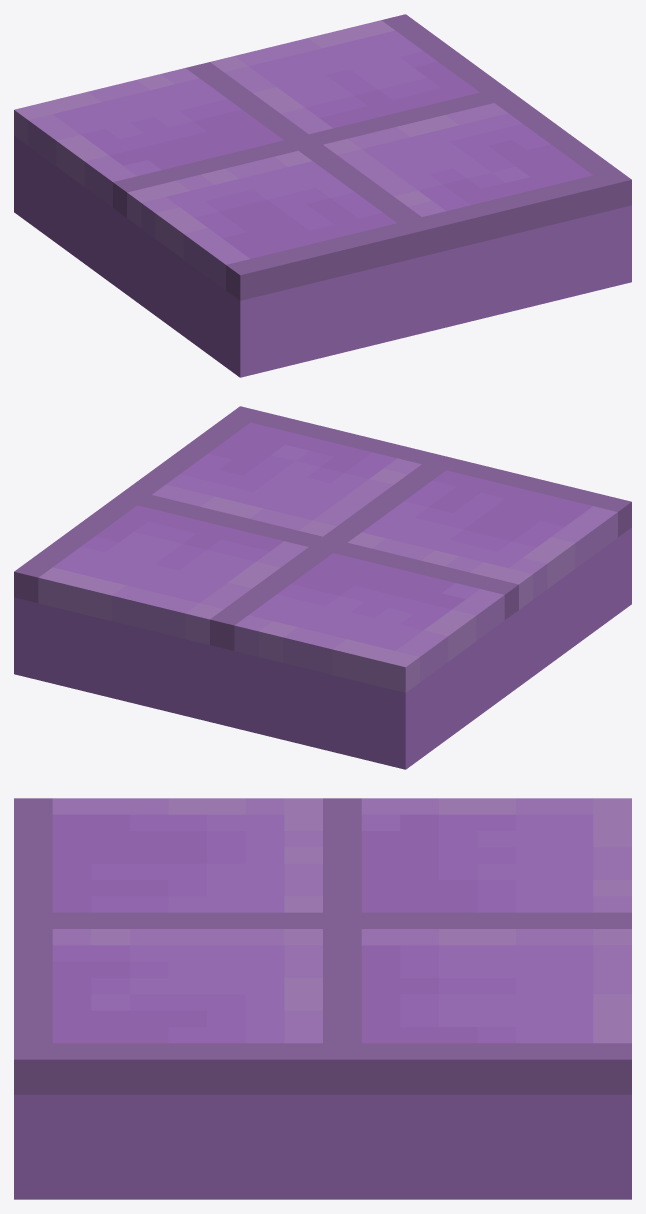
Rendered from EnderGround.obj.
The picture shows the model from 3 angles, top to bottom: view 1: azimuth 30°, elevation 25°; view 2: azimuth 150°, elevation 25°; view 3: azimuth 270°, elevation 25°; orthographic projection. The views are drawn at different scales.
Bounding box in the file's own units: 1.6 × 0.4 × 1.6.
Materials: 1 (1 with a texture image).
